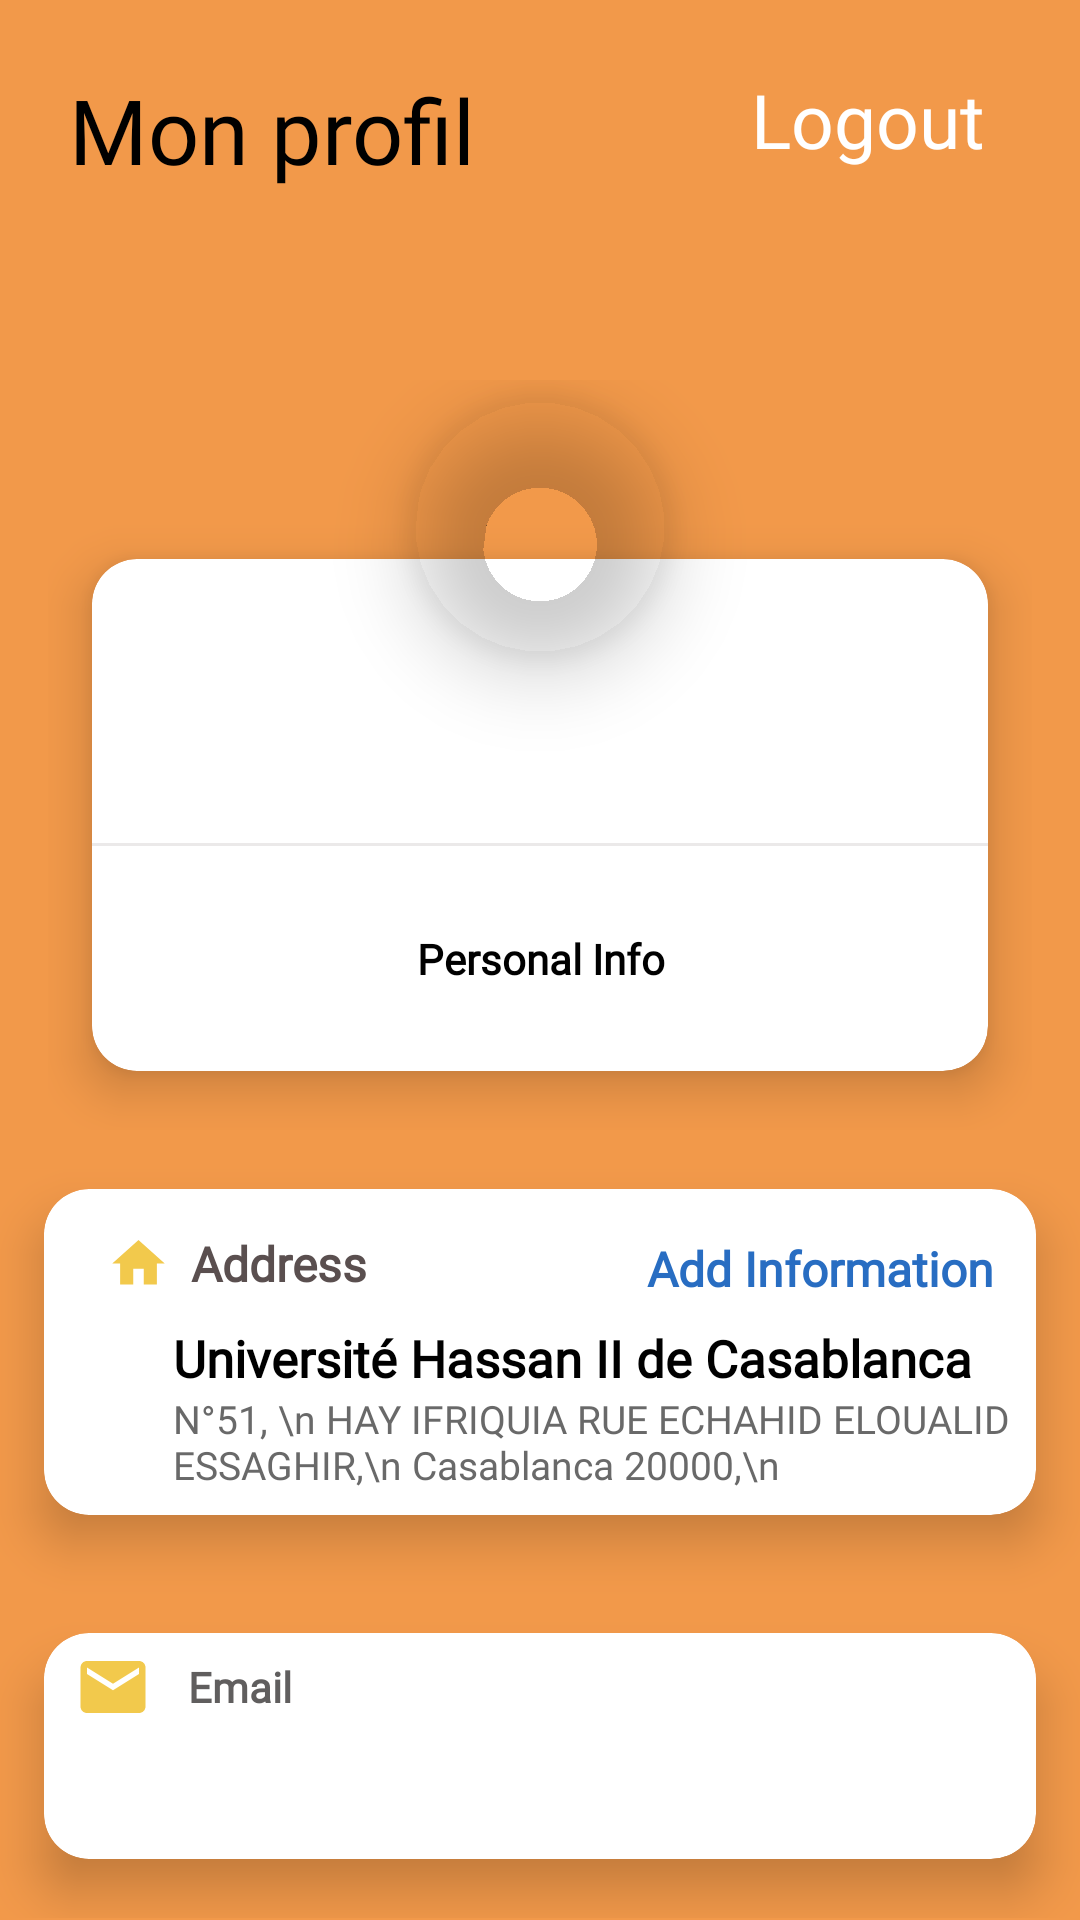

Icon click points for this 1080 × 1920 phone screenshot, format point (x, y):
home: point (138, 1262)
